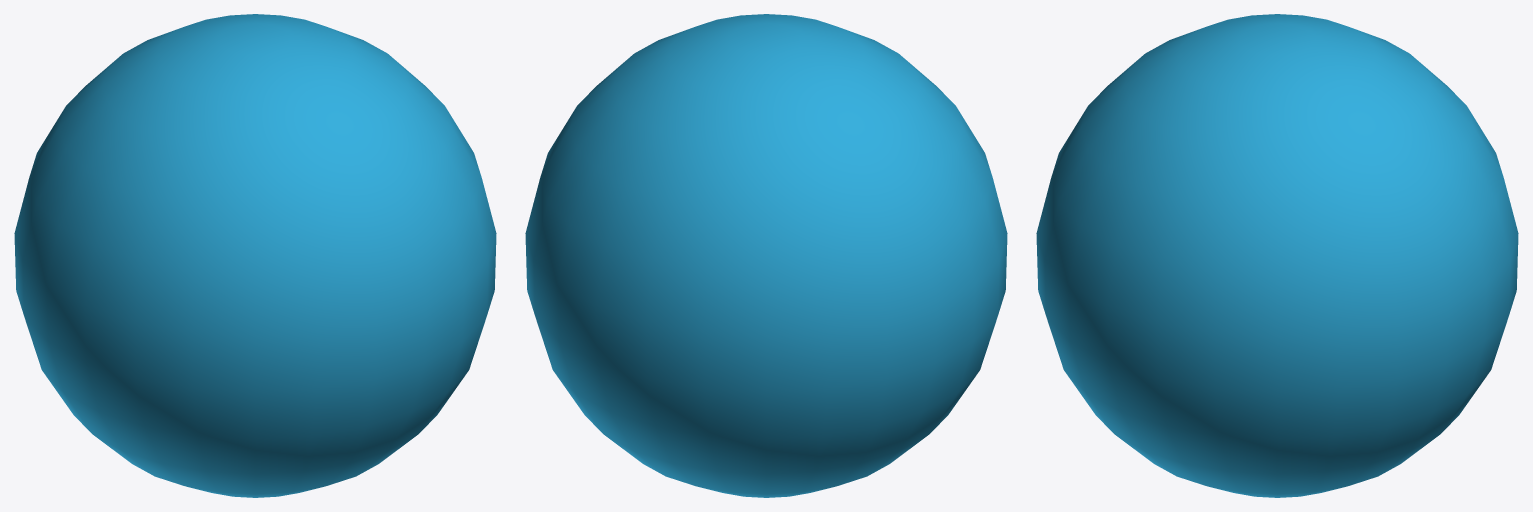
File: Ball_blue_01.glb
3 views of the same model, side by side, from view 1: azimuth 30°, elevation 25°; view 2: azimuth 150°, elevation 25°; view 3: azimuth 270°, elevation 25° (orthographic).
Parts seen in each view (by area): view 1: Mesh1 Ball_blue Model; view 2: Mesh1 Ball_blue Model; view 3: Mesh1 Ball_blue Model.
Boxes of the visible parts, box(x1,y1,x2,y2) form: Mesh1 Ball_blue Model: box(14, 14, 496, 497); Mesh1 Ball_blue Model: box(525, 14, 1007, 497); Mesh1 Ball_blue Model: box(1036, 14, 1518, 497).
Bounding box in the file's own units: 0.2099 × 0.2096 × 0.2099.
